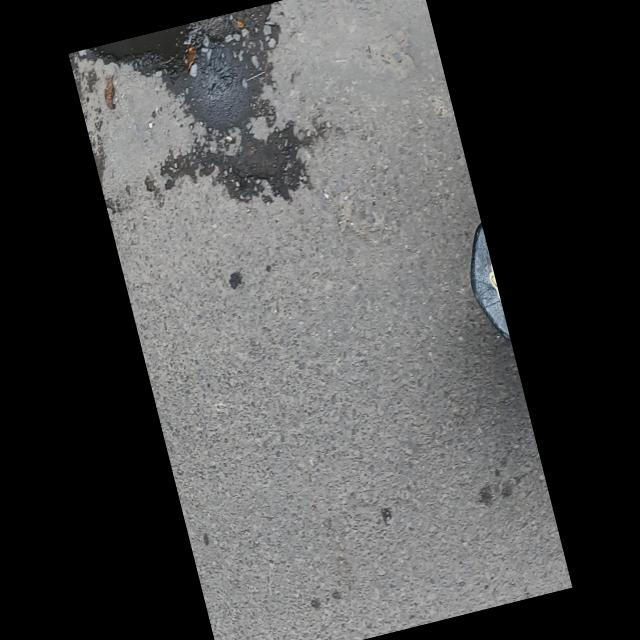Lubang: (82, 0, 343, 105), (218, 122, 311, 200)
